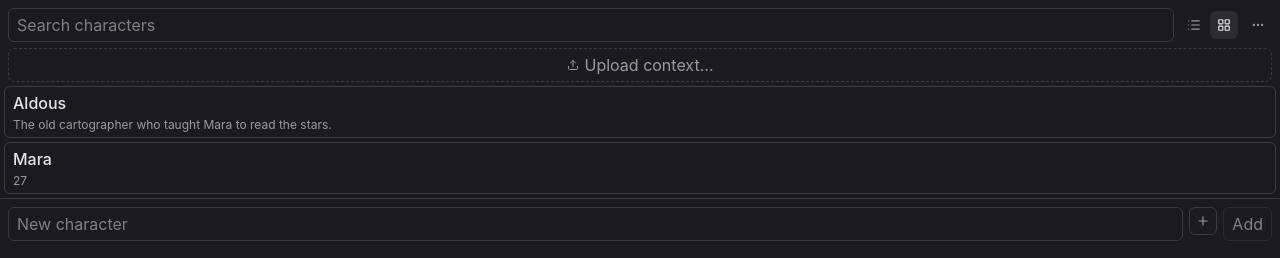
Scenario: EntityTab (F-9.2) › search matches the name, the fields, and the page; the empty message says so
The width and height of the screenshot is (1280, 258).
Type "scar" into the search field labelled "Search characters" at [591, 25], box [8, 8, 1174, 42]
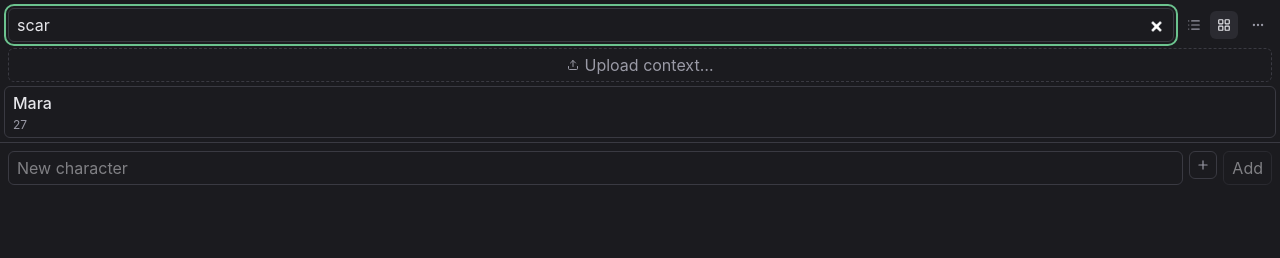
Replace the text in the search field named "Search characters" with "STARS" at [591, 25], box [8, 8, 1174, 42]
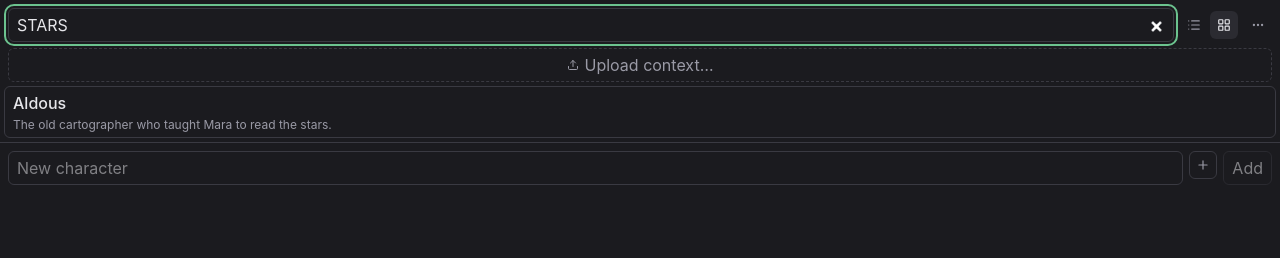
Replace the text in the search field named "Search characters" with "nobody" at [591, 25], box [8, 8, 1174, 42]
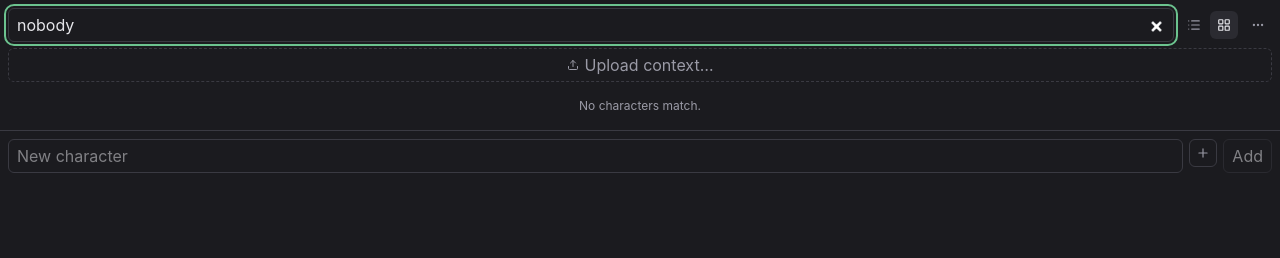
expect the text "No characters match." is shown: met, box [579, 98, 701, 113]
